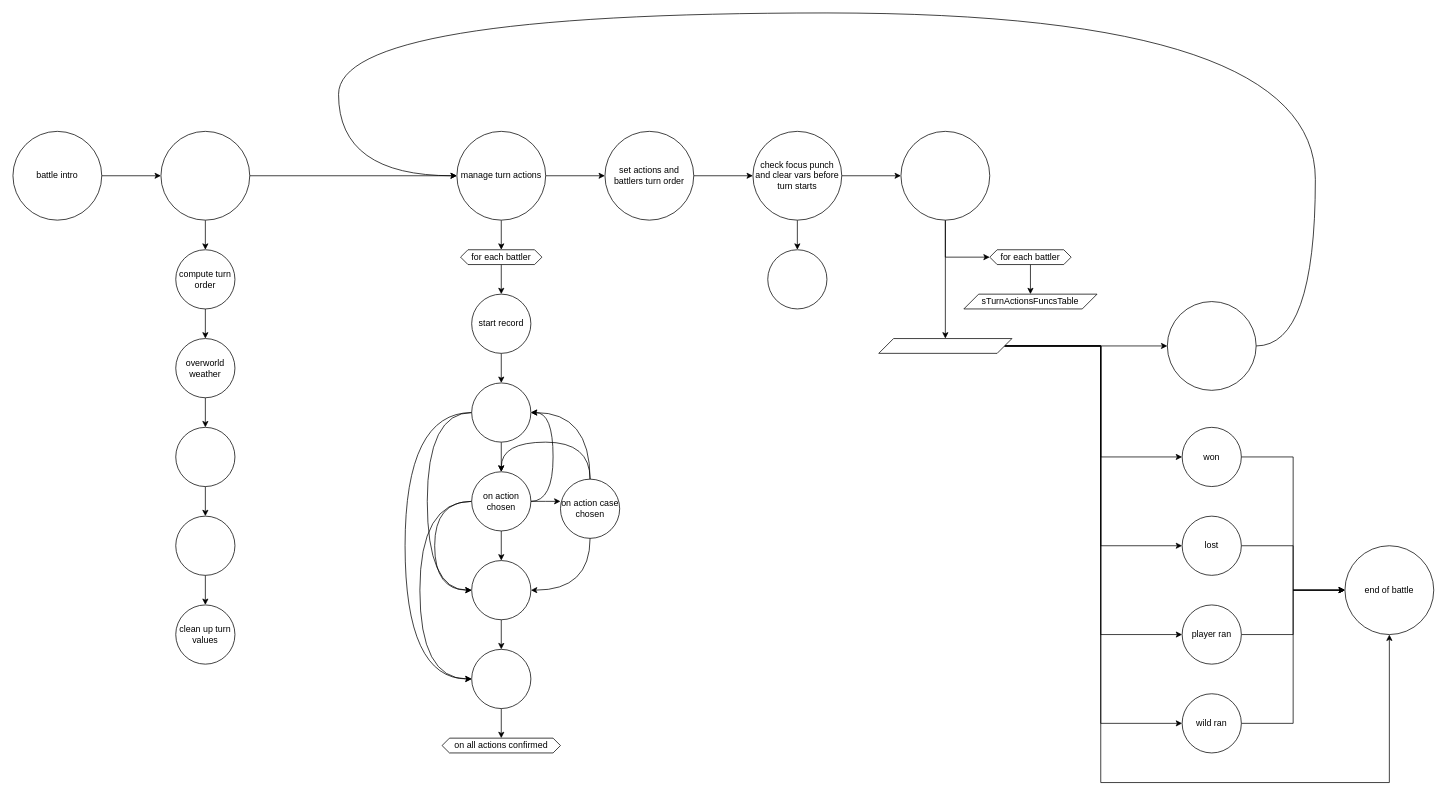
Image size: 1447x801. Some labels were removed from this diagram. Each missing label, with the centre of its shape:
"action confirmed" goes at [501,679].
"action confirmed standby" goes at [501,590].
"before action chosen" goes at [501,412].
"continue battle" goes at [1211,345].
"process focus punch" goes at [797,279].
"process switch-in abilities" goes at [205,457].
"process switch-in hold items" goes at [205,545].
"run turn action functions" goes at [945,175].
"sEndTurnFuncsTable" goes at [945,345].
"try do events before first turn" goes at [205,175].
